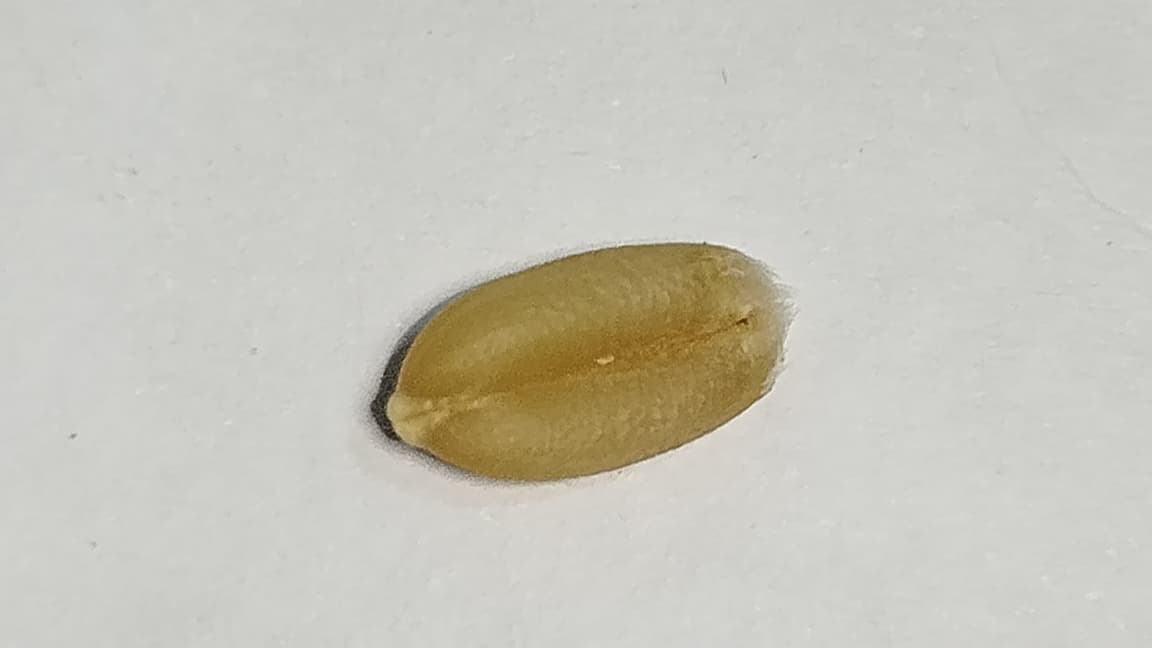healthy: (381, 240, 790, 479)
